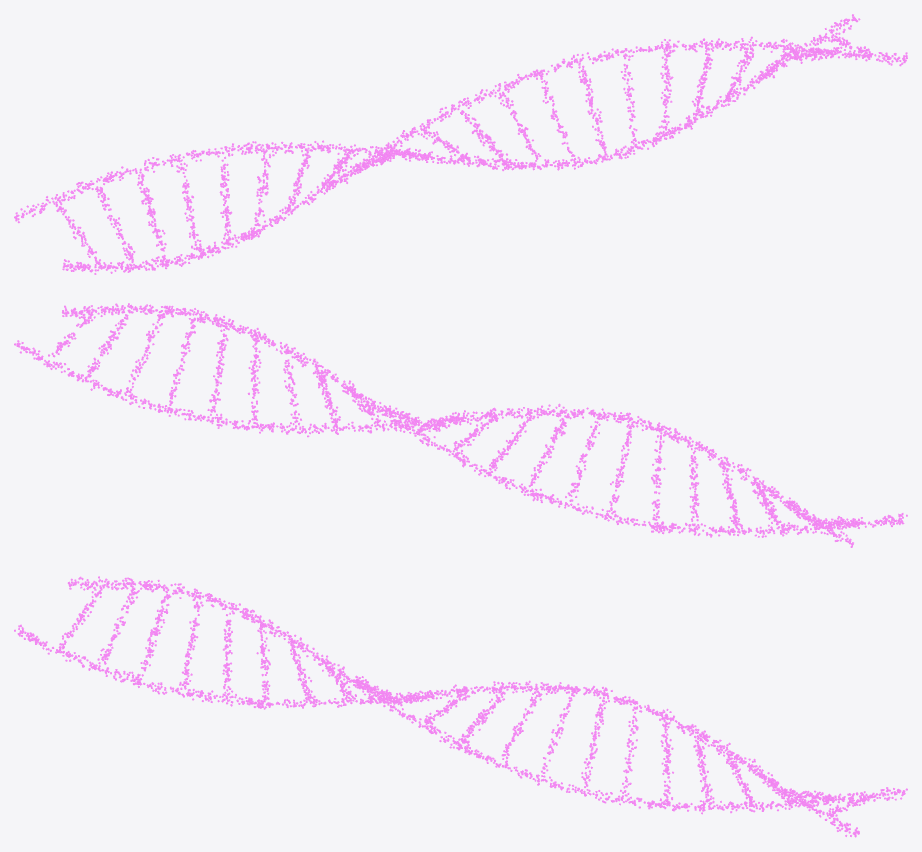
The model's file is DNA 1.fbx.
3 renders of one model, top to bottom at view 1: azimuth 30°, elevation 25°; view 2: azimuth 150°, elevation 25°; view 3: azimuth 330°, elevation 25°, orthographic.
Parts seen in each view (by area): view 1: Sphere.3514; view 2: Sphere.3514; view 3: Sphere.3514.
Boxes of the visible parts, box(x1,y1,x2,y2) form: Sphere.3514: box(14, 14, 907, 274); Sphere.3514: box(14, 303, 907, 547); Sphere.3514: box(14, 576, 907, 837).
Size of the model in its own units: 87.31 by 10.2 by 10.25.
